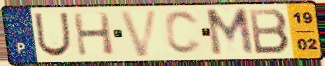B: (246, 8, 292, 56)
C: (163, 9, 204, 57)
H: (71, 12, 117, 58)
M: (203, 6, 257, 58)
U: (32, 11, 73, 58)
V: (117, 8, 162, 59)
